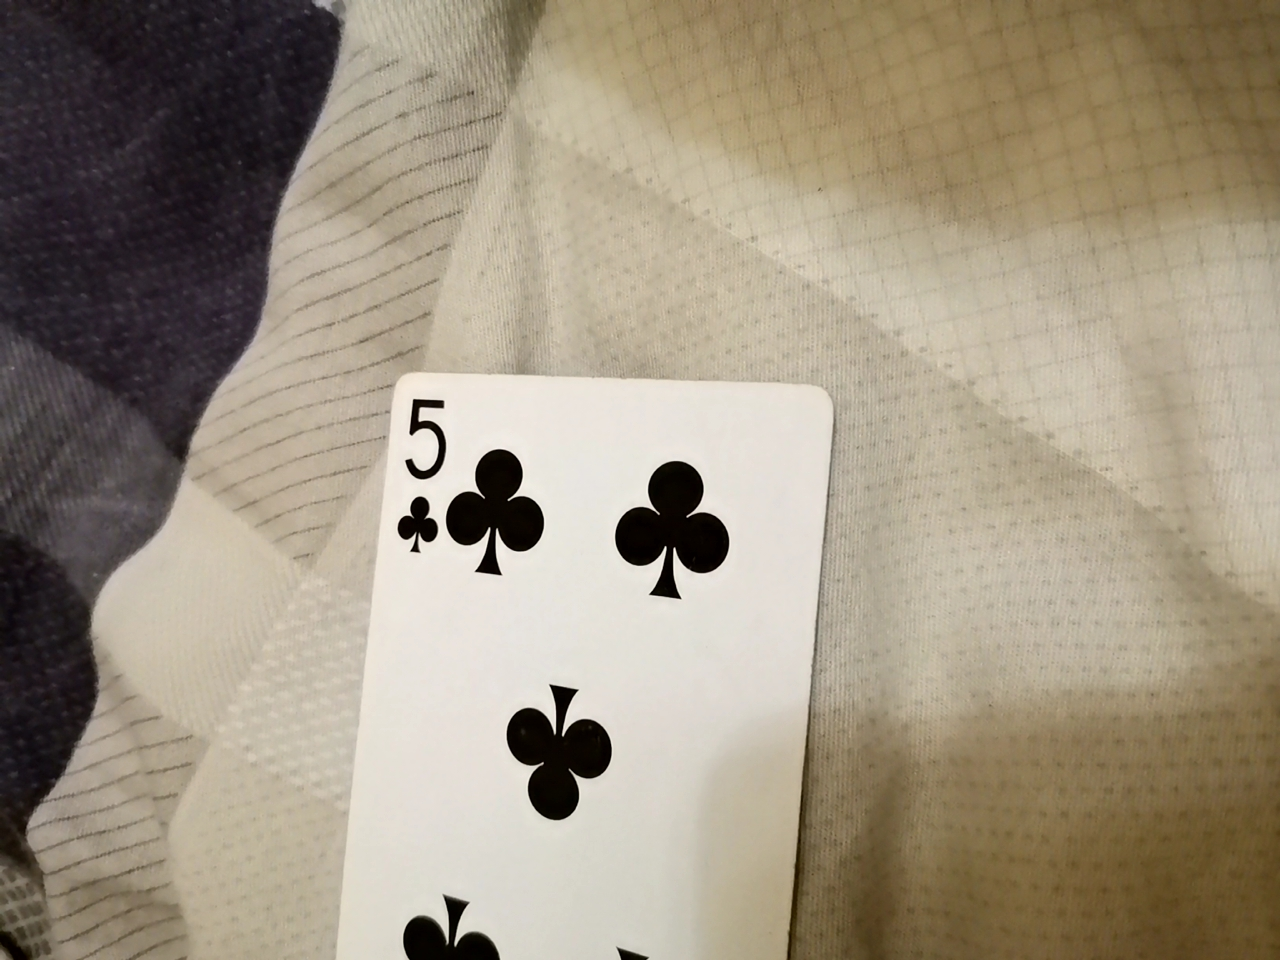mh 5: (335, 355, 833, 955)
